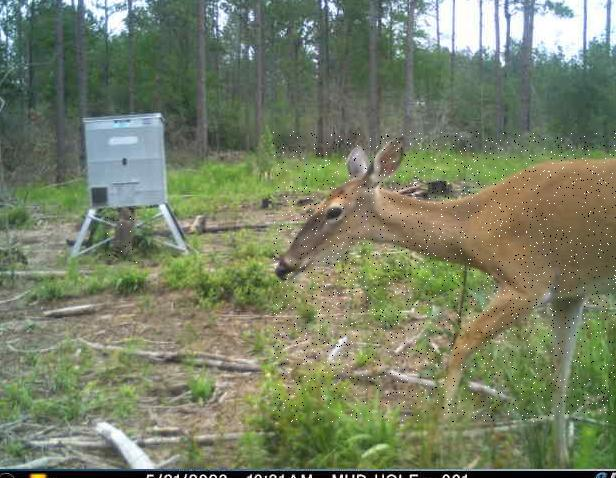Deer: (273, 131, 616, 422)
Raccoon: (105, 205, 138, 266)
